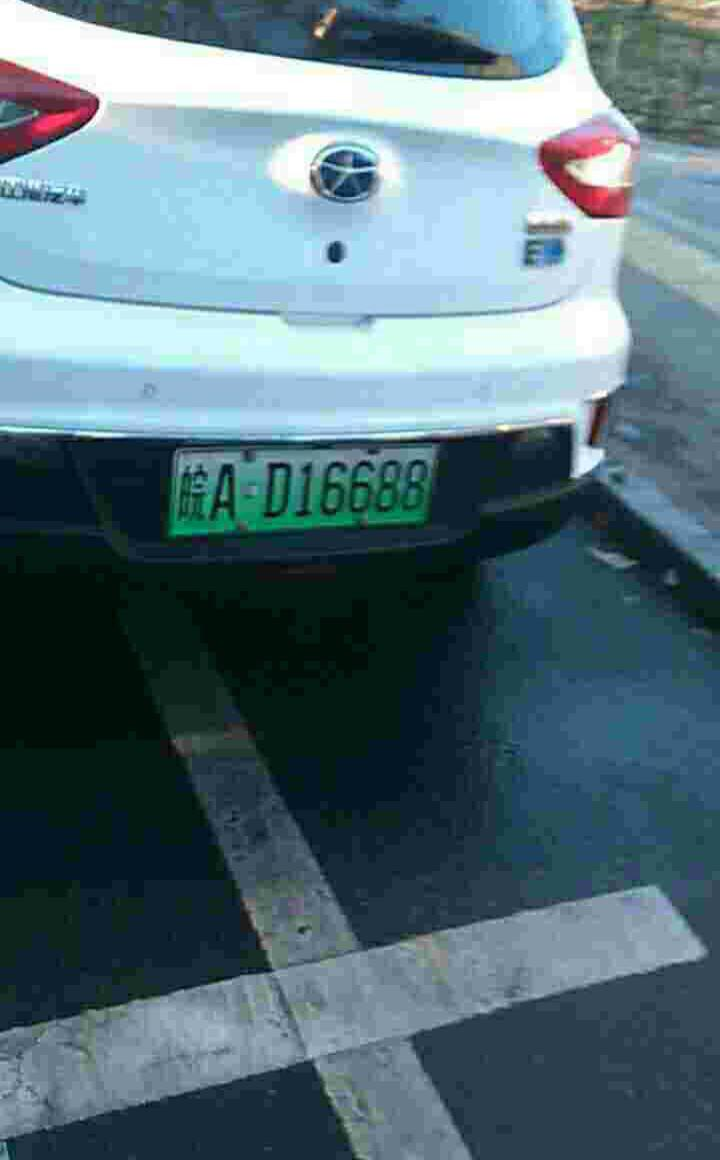car_id: (172, 445, 438, 534)
